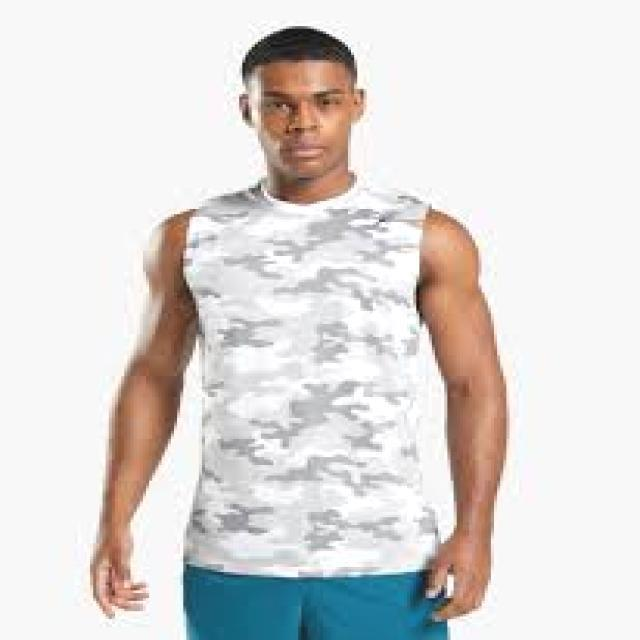no_vest: (184, 164, 446, 572)
